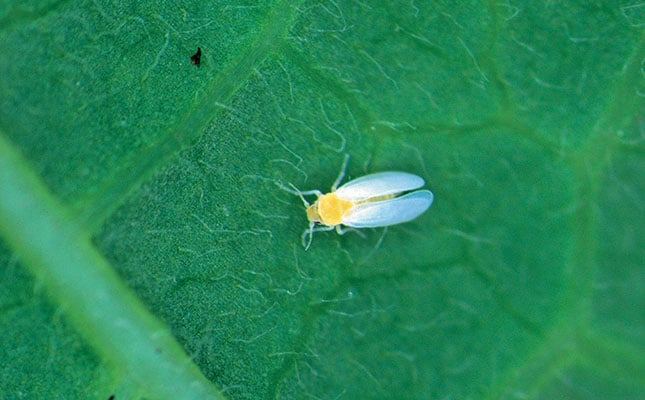Tobacco Whitefly: (289, 155, 459, 254)
